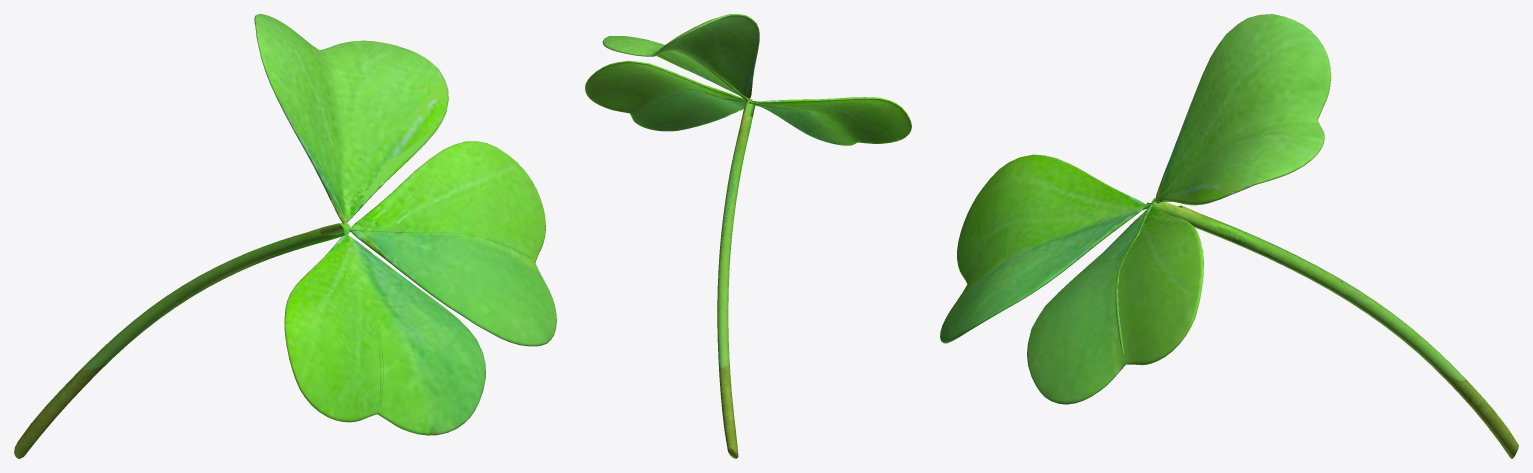
The model's file is 3clover.glb.
3 renders of one model, left to right at view 1: azimuth 30°, elevation 25°; view 2: azimuth 150°, elevation 25°; view 3: azimuth 270°, elevation 25°, orthographic. The views are drawn at different scales.
Visible parts, largest first — view 1: node_id30_2.006; view 2: node_id30_2.006; view 3: node_id30_2.006.
Boxes of the visible parts, x1,y1,x2,y2 form: node_id30_2.006: [14, 14, 556, 458]; node_id30_2.006: [585, 14, 911, 458]; node_id30_2.006: [940, 14, 1518, 458].
Bounding box in the file's own units: 0.3677 × 0.4682 × 0.4858.
1 material, 1 textured.
